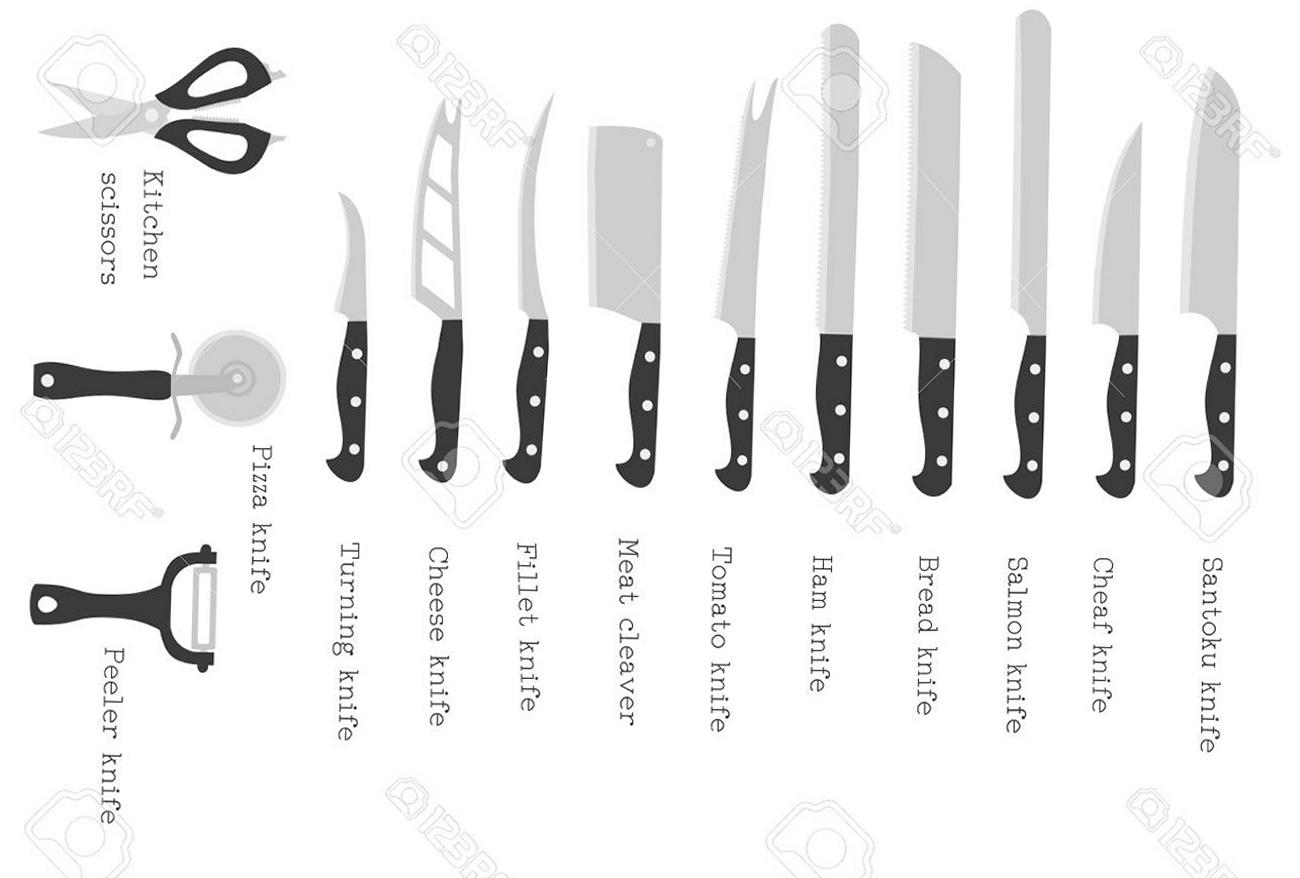knife: (1095, 122, 1148, 500)
